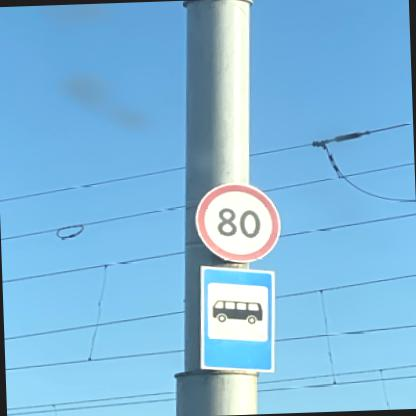speedlimit: (193, 182, 279, 262)
